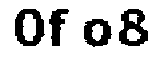0: (15, 8, 45, 49)
8: (117, 4, 152, 50)
f: (49, 7, 71, 49)
o: (82, 13, 113, 51)
